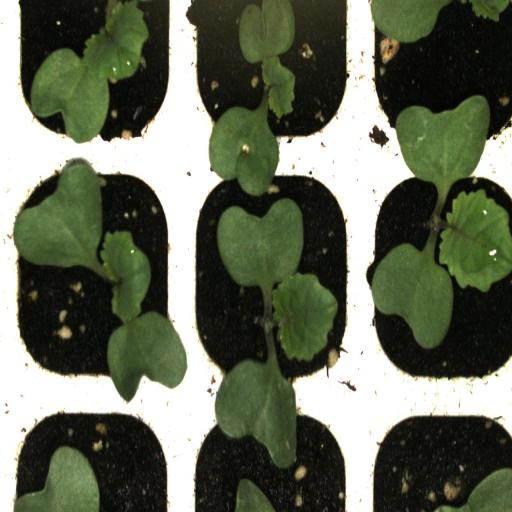Folha: (13, 445, 100, 512), (371, 0, 451, 44)
Germinacao: (2, 156, 181, 403), (182, 159, 362, 400), (363, 158, 512, 401), (184, 0, 362, 158), (0, 0, 179, 150)
